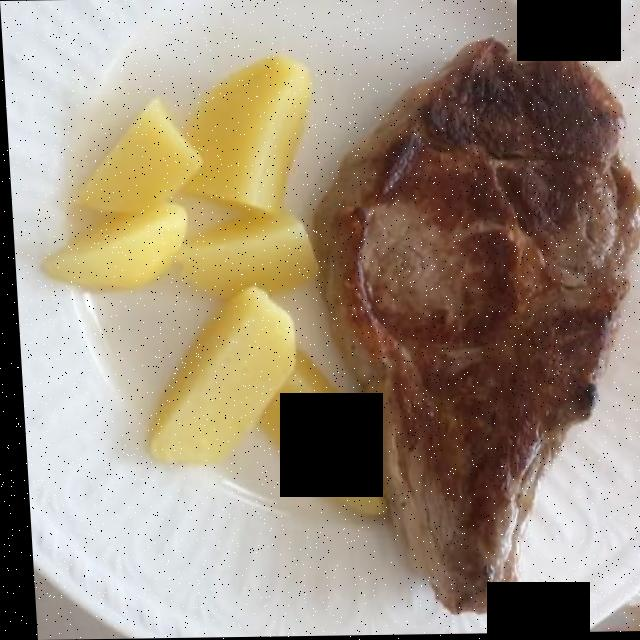potatoes-steamed: (63, 22, 387, 549)
